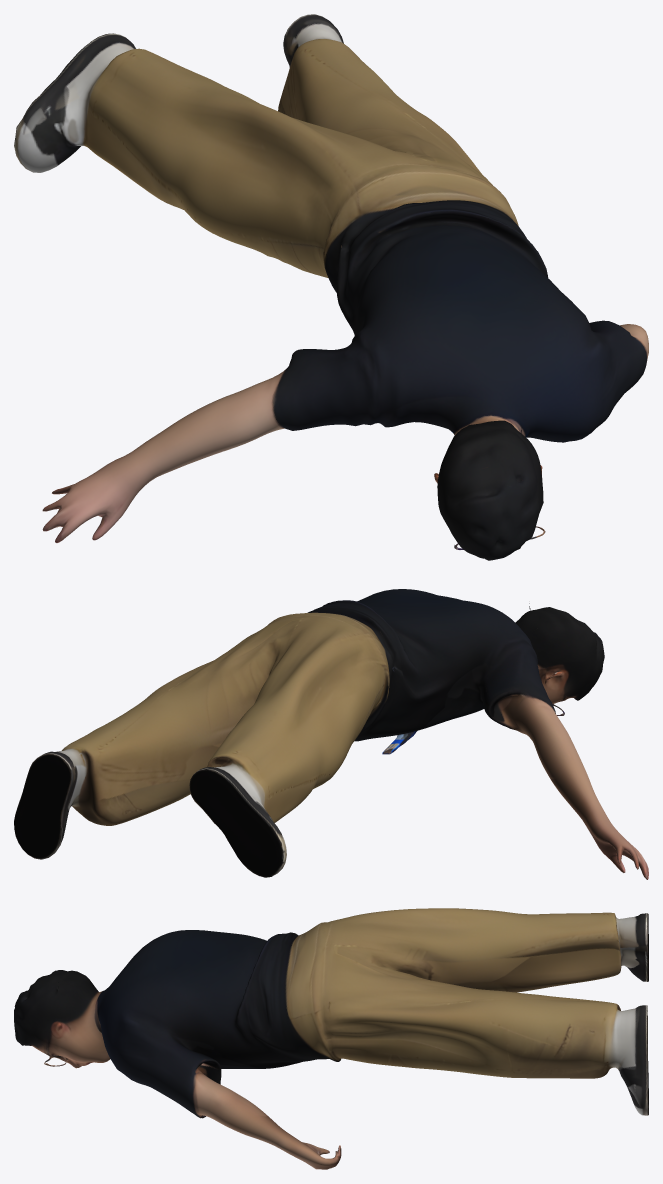
The model's file is Woojae2.obj.
3 renders of one model, top to bottom at view 1: azimuth 30°, elevation 25°; view 2: azimuth 150°, elevation 25°; view 3: azimuth 270°, elevation 25°, orthographic. The views are drawn at different scales.
Parts seen in each view (by area): view 1: model.001; view 2: model.001; view 3: model.001.
Boxes of the visible parts, x1=… form: model.001: x1=14, y1=14, x2=648, y2=560; model.001: x1=14, y1=589, x2=648, y2=879; model.001: x1=14, y1=908, x2=648, y2=1169.
Bounding box in the file's own units: 1.25 × 0.5894 × 1.71.
Materials: 1 (1 with a texture image).
